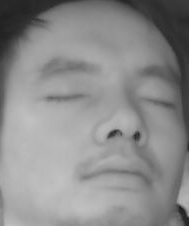blink: (44, 86, 83, 107), (143, 91, 176, 113)
mouth: (79, 151, 151, 190)
